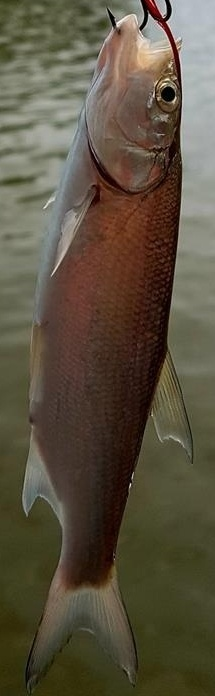Aspius aspius: (20, 20, 195, 696)
